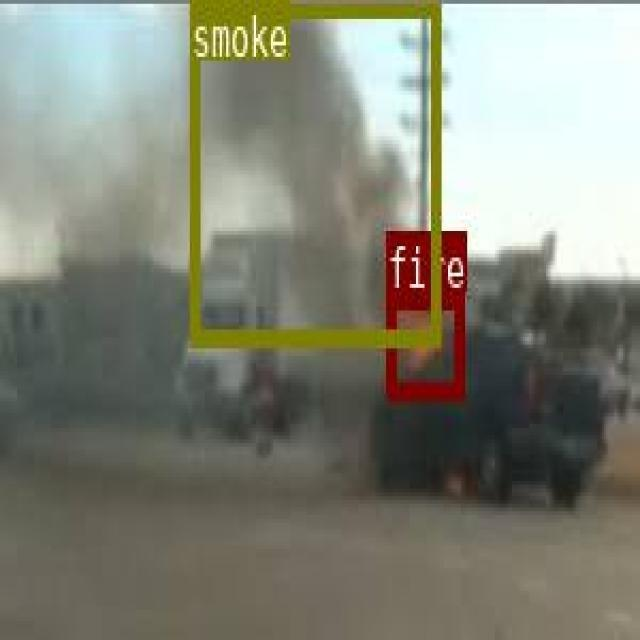fire: (385, 287, 461, 393)
smoke: (189, 0, 438, 341)
